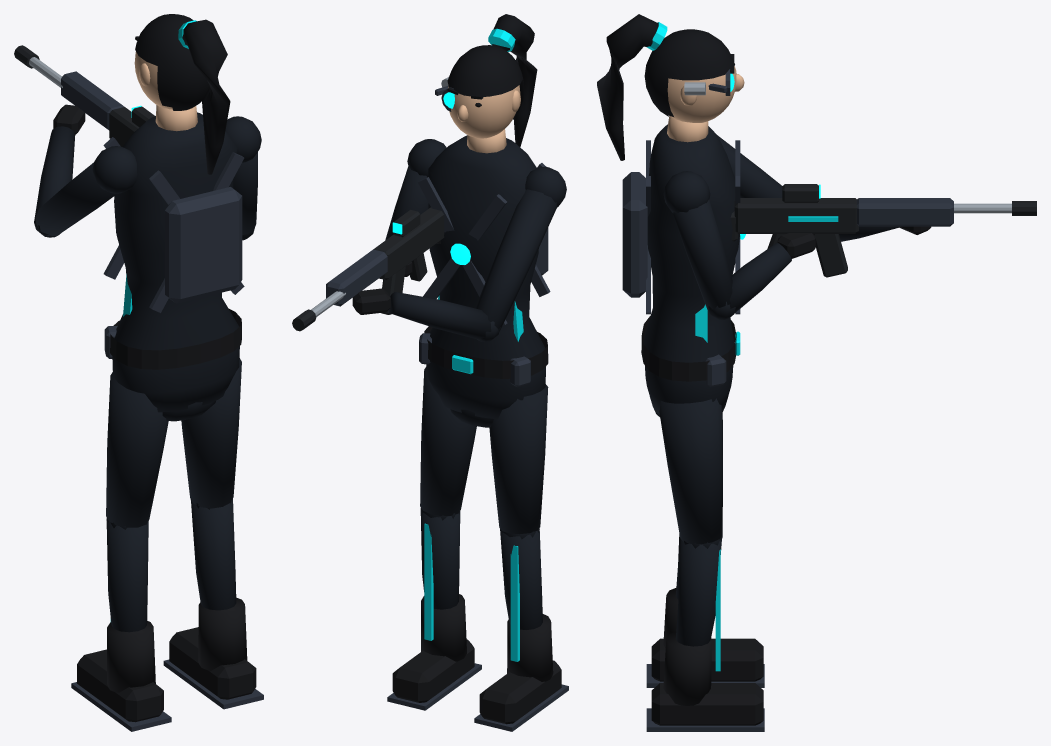
File: kage.glb
3 views of the same model, side by side, from view 1: azimuth 30°, elevation 25°; view 2: azimuth 150°, elevation 25°; view 3: azimuth 270°, elevation 25° (orthographic). The views are drawn at different scales.
Visible parts, largest first — view 1: Kage_Body; view 2: Kage_Body; view 3: Kage_Body.
Boxes of the visible parts, x1,y1,x2,y2 form: Kage_Body: (14,14,263,731); Kage_Body: (292,14,568,731); Kage_Body: (597,14,1036,731).
Size of what is drawn, in the model's own units: 0.4753 by 1.8 by 1.05.
Materials: 1 (1 with a texture image).
